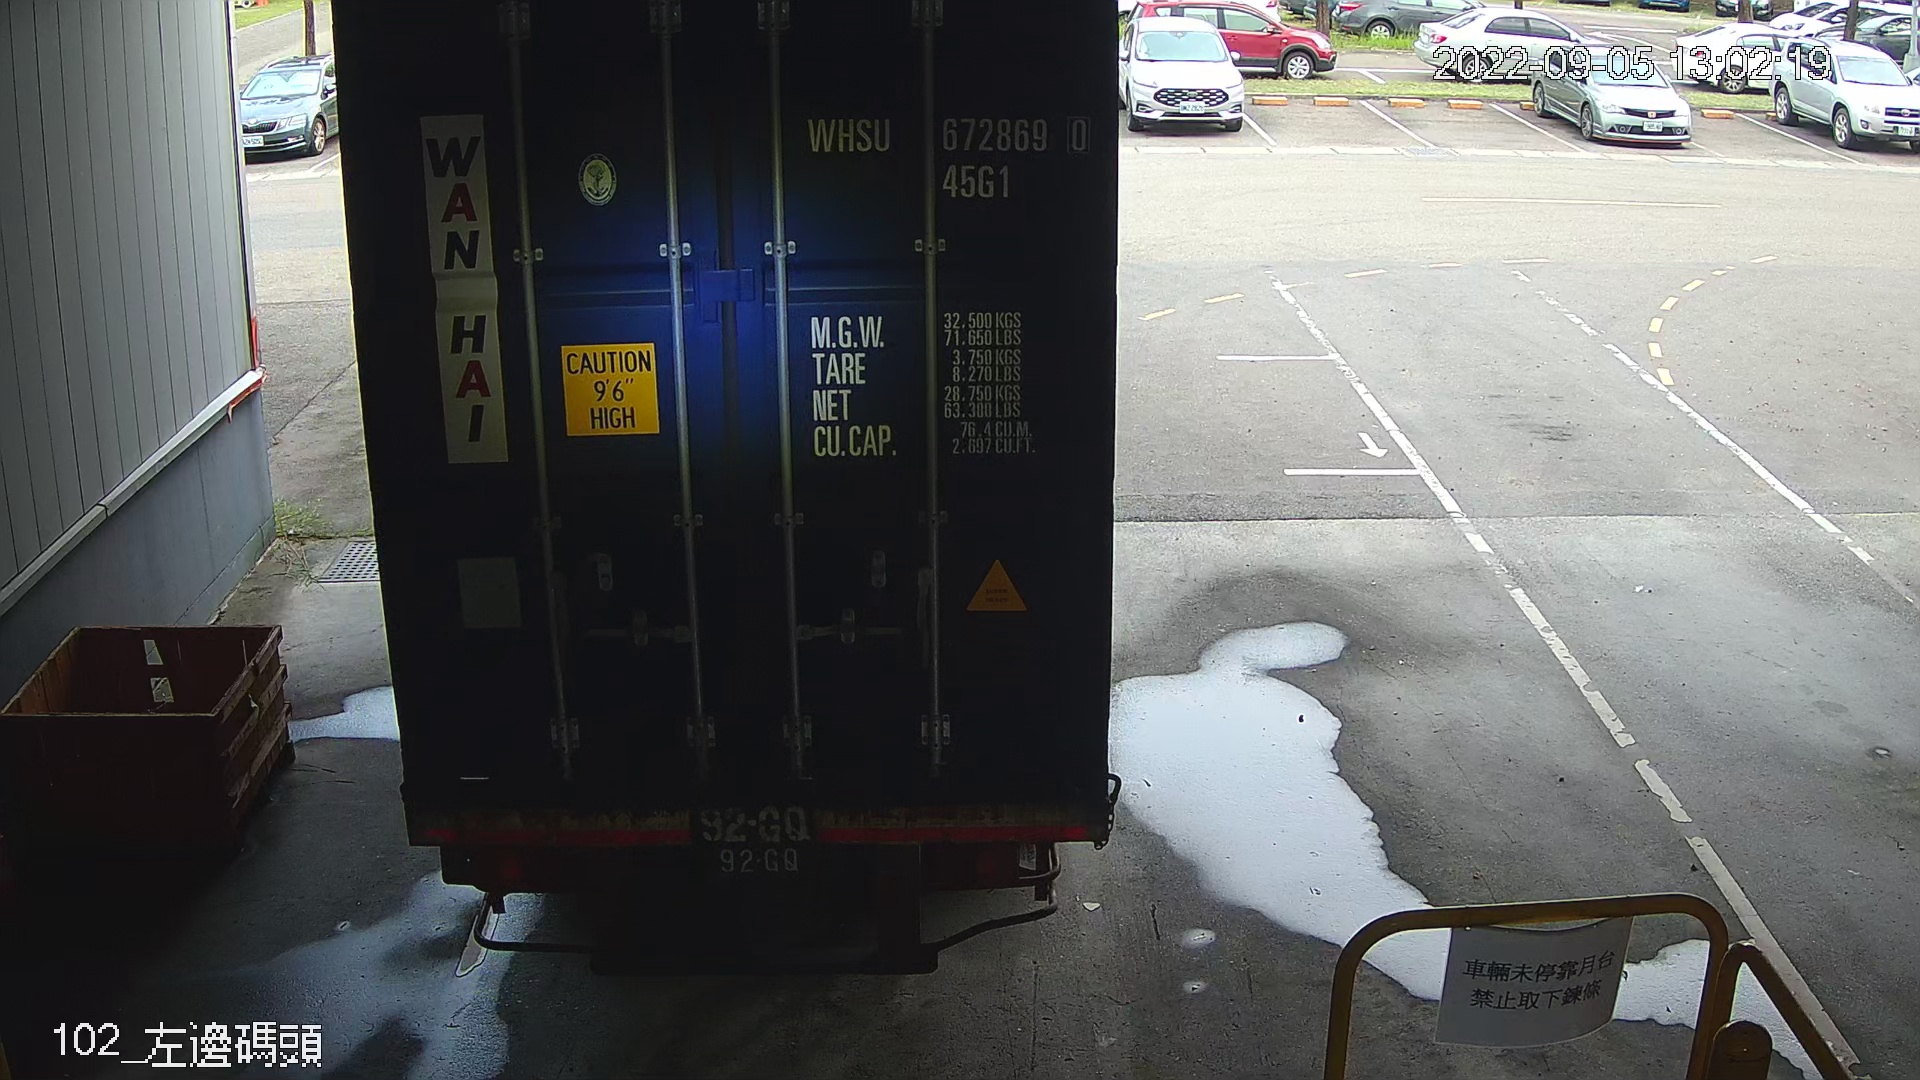container: (798, 104, 1097, 207)
